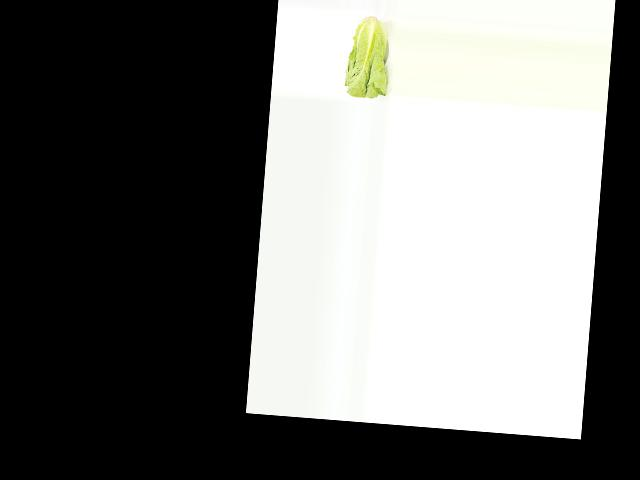lettuce: (342, 13, 393, 99)
